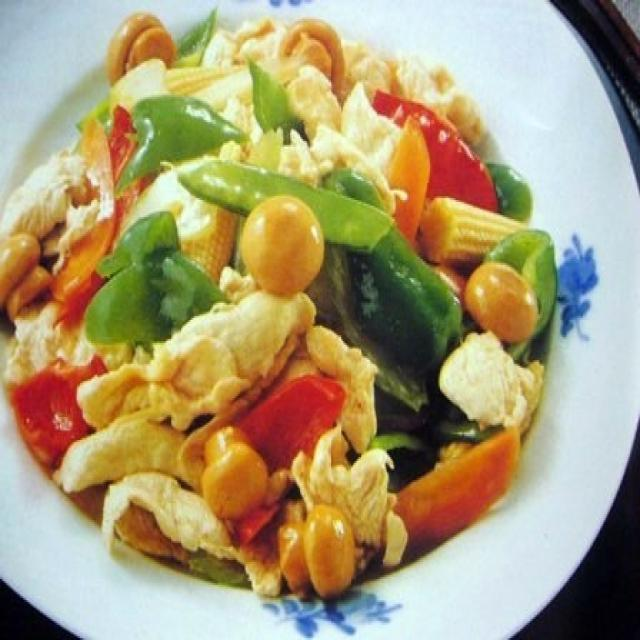蔬菜料理: (36, 28, 600, 623)
